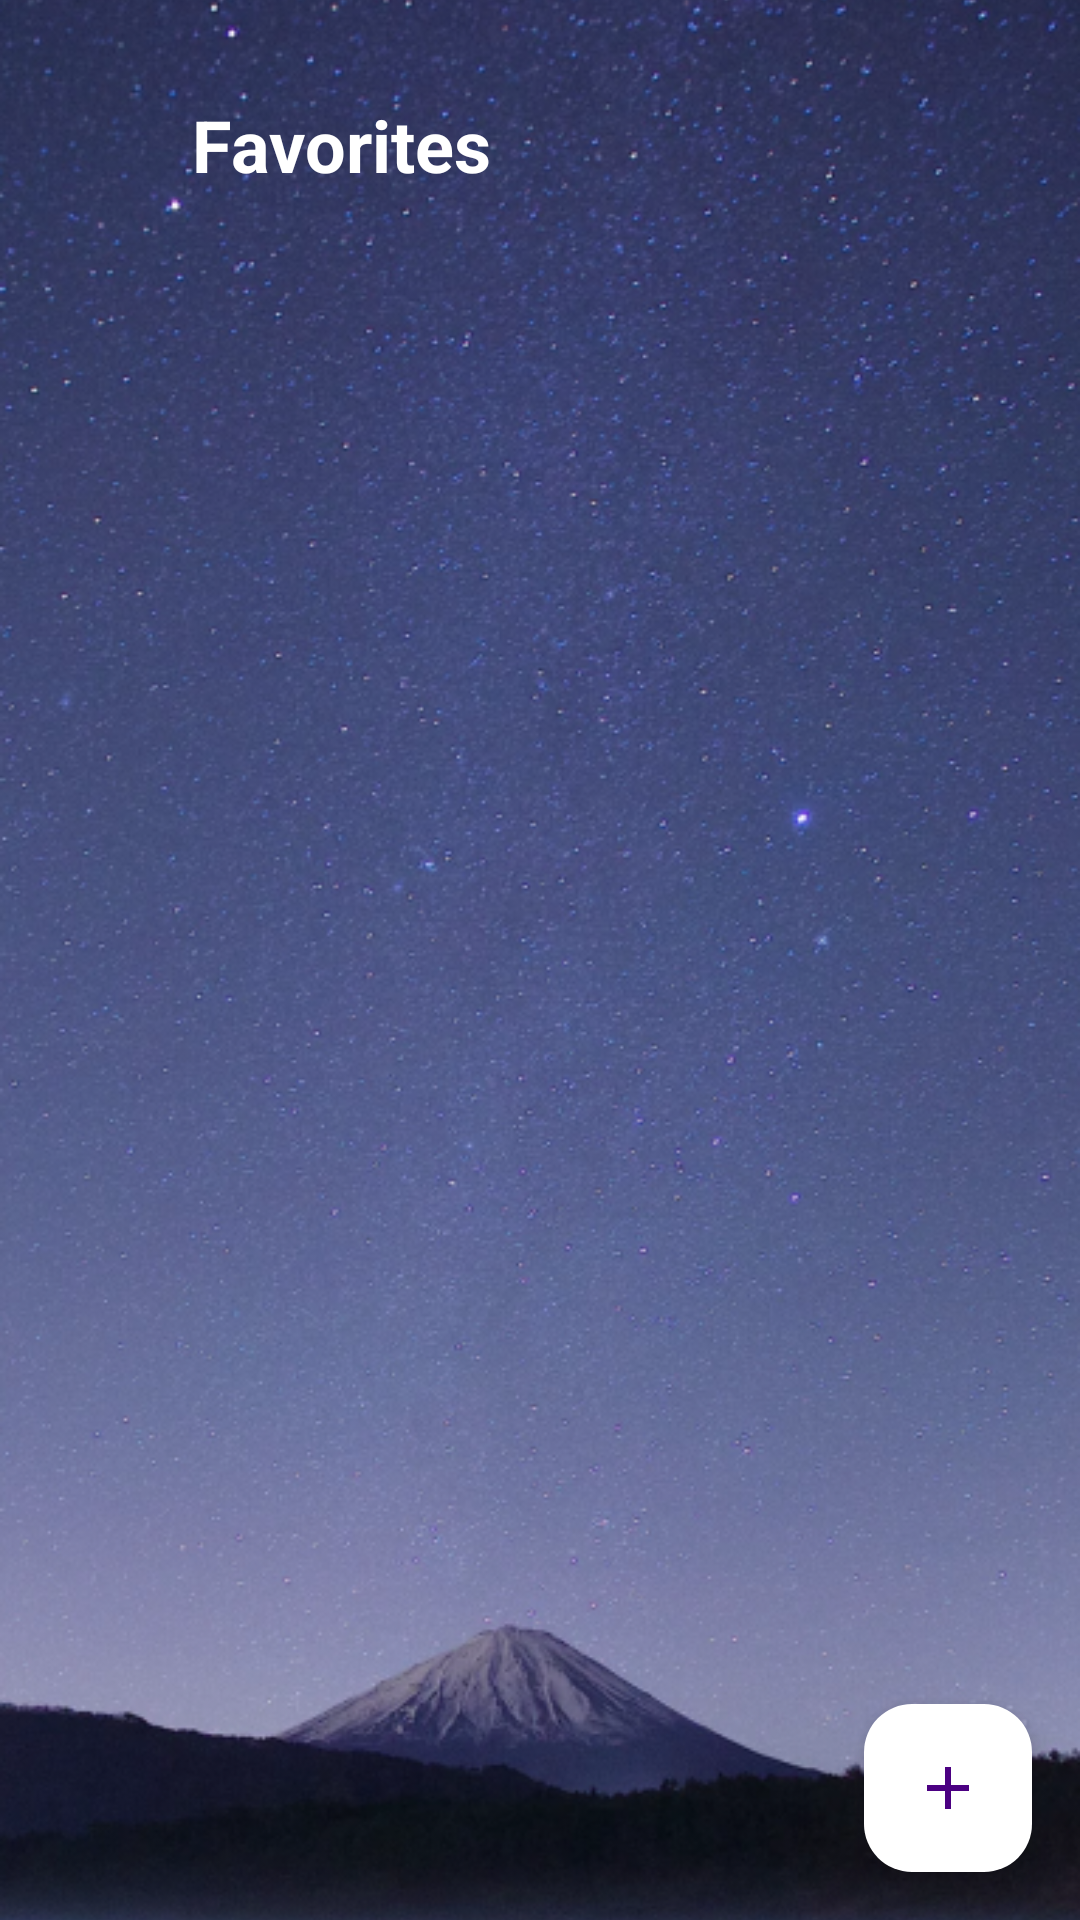

Icon click points for this 1080px x 1920px phone screenshot, format [x,y]:
Add favorite: [948,1788]
